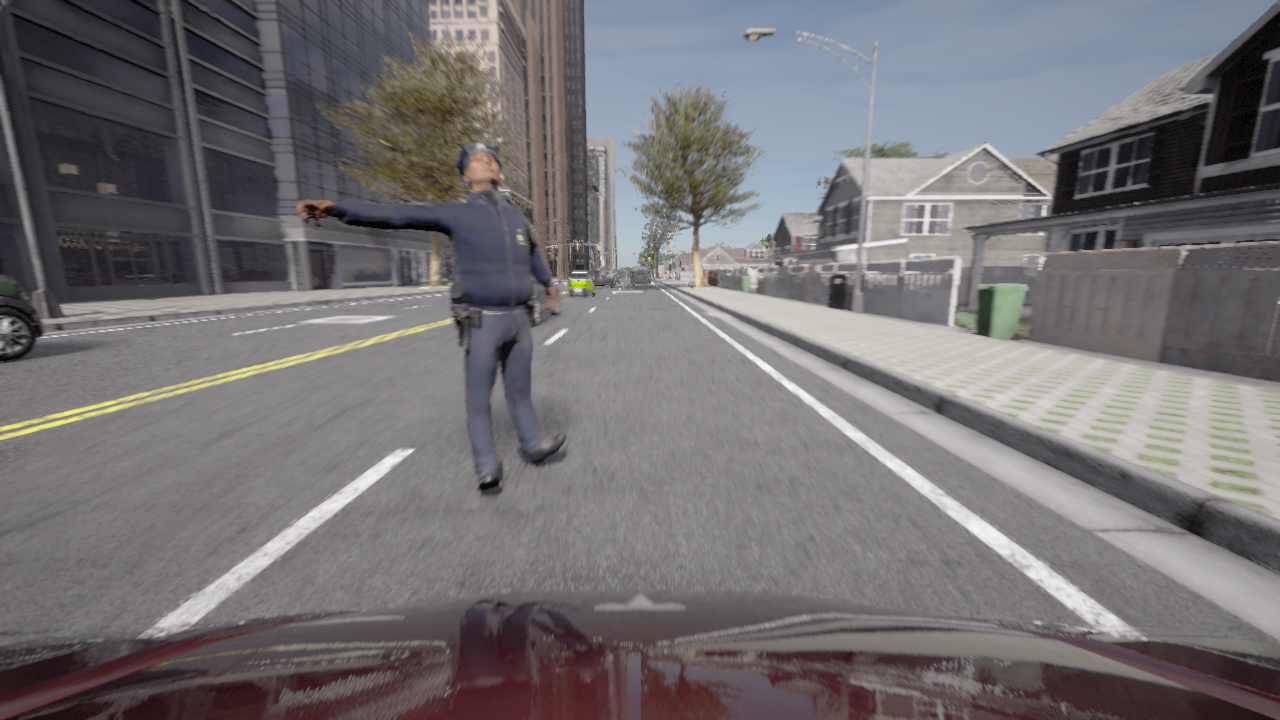cyclist: (0, 588, 1279, 719), (449, 272, 560, 326), (568, 270, 594, 296), (589, 268, 615, 288), (629, 266, 651, 284), (632, 270, 649, 285), (611, 271, 621, 283)
pedestrian: (297, 142, 566, 490)
